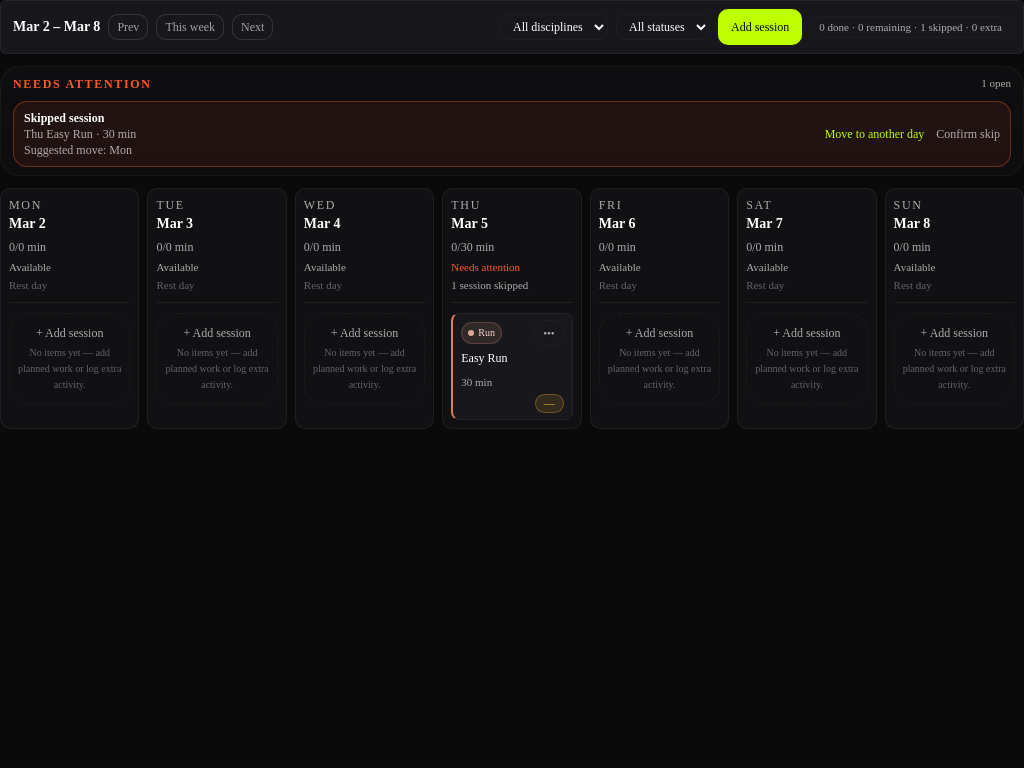
it: WeekCalendar › persists confirm skip so the skipped-session alert clears
What coordinates should you click on to do the following:
click the button "Confirm skip"
I would click on:
 (968, 134)
Its box is [936, 126, 1000, 142].
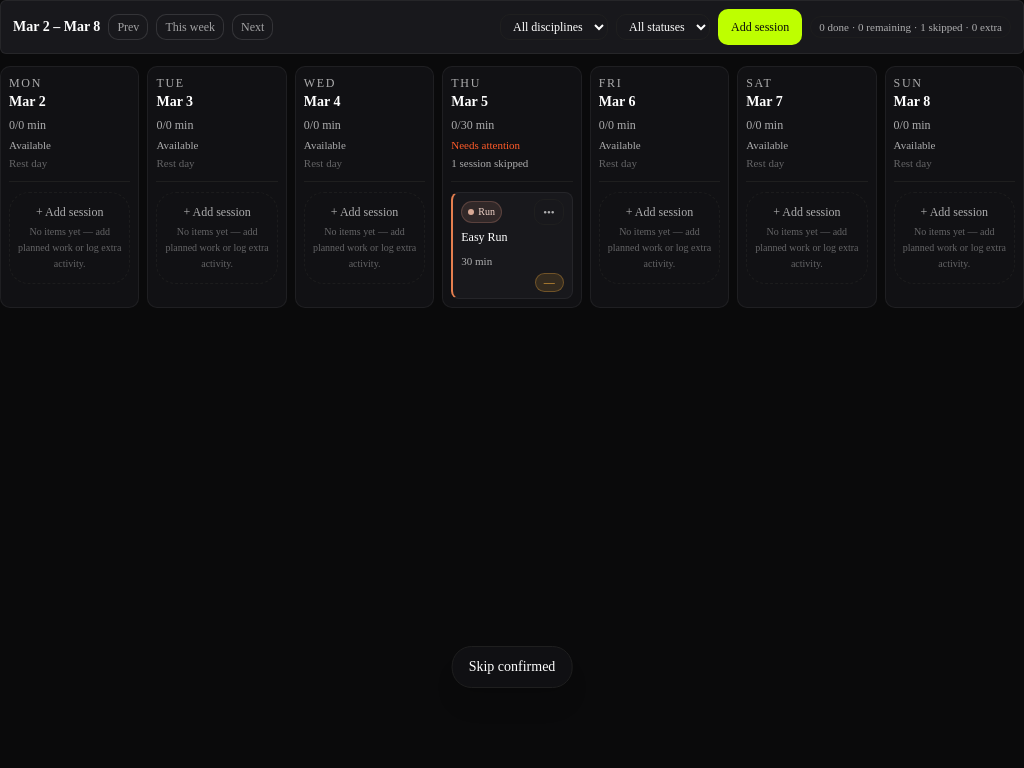
Expected: the text "Skip confirmed" is shown, [452, 646, 572, 688]
Expected: the text "Skipped session" is gone
